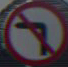Don't turn left: (6, 7, 56, 55)
